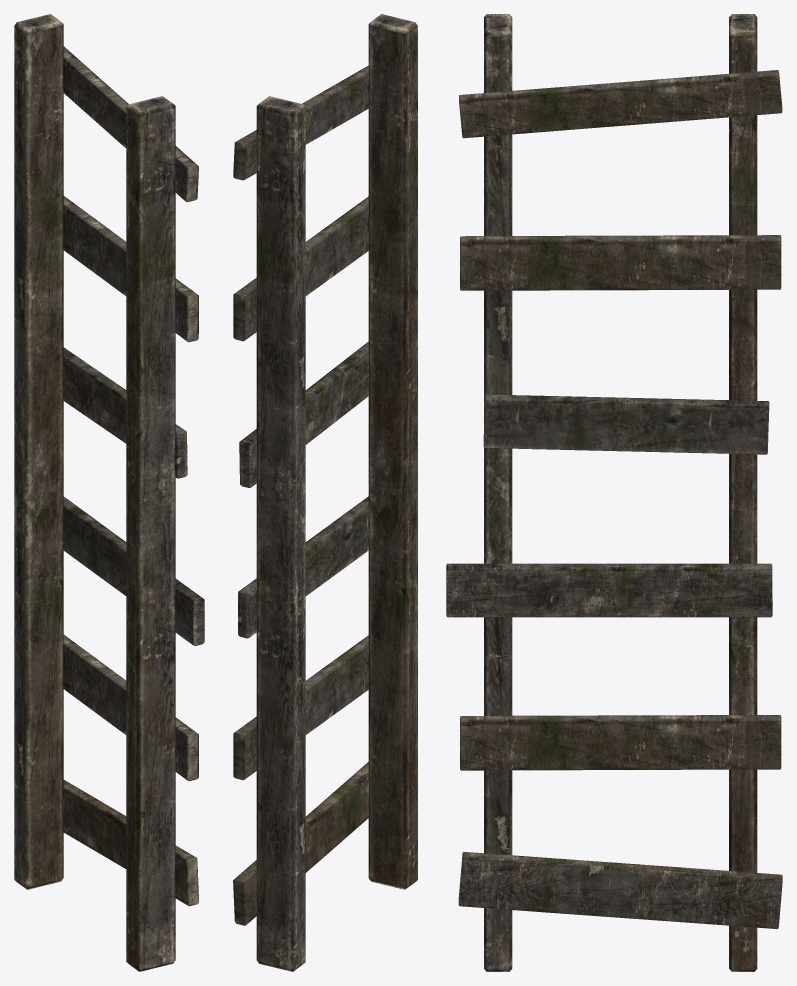
File: Ladder.fbx
The picture shows the model from 3 angles, left to right: view 1: azimuth 30°, elevation 25°; view 2: azimuth 150°, elevation 25°; view 3: azimuth 270°, elevation 25°; orthographic projection. The views are drawn at different scales.
Parts seen in each view (by area): view 1: Ladder_LOD0; view 2: Ladder_LOD0; view 3: Ladder_LOD0.
Boxes of the visible parts, left/top/right/bottom form: Ladder_LOD0: left=14, top=14, right=204, bottom=971; Ladder_LOD0: left=233, top=14, right=417, bottom=971; Ladder_LOD0: left=446, top=14, right=782, bottom=971.
Size of what is drawn, in the model's own units: 12.92 by 212 by 68.66.
